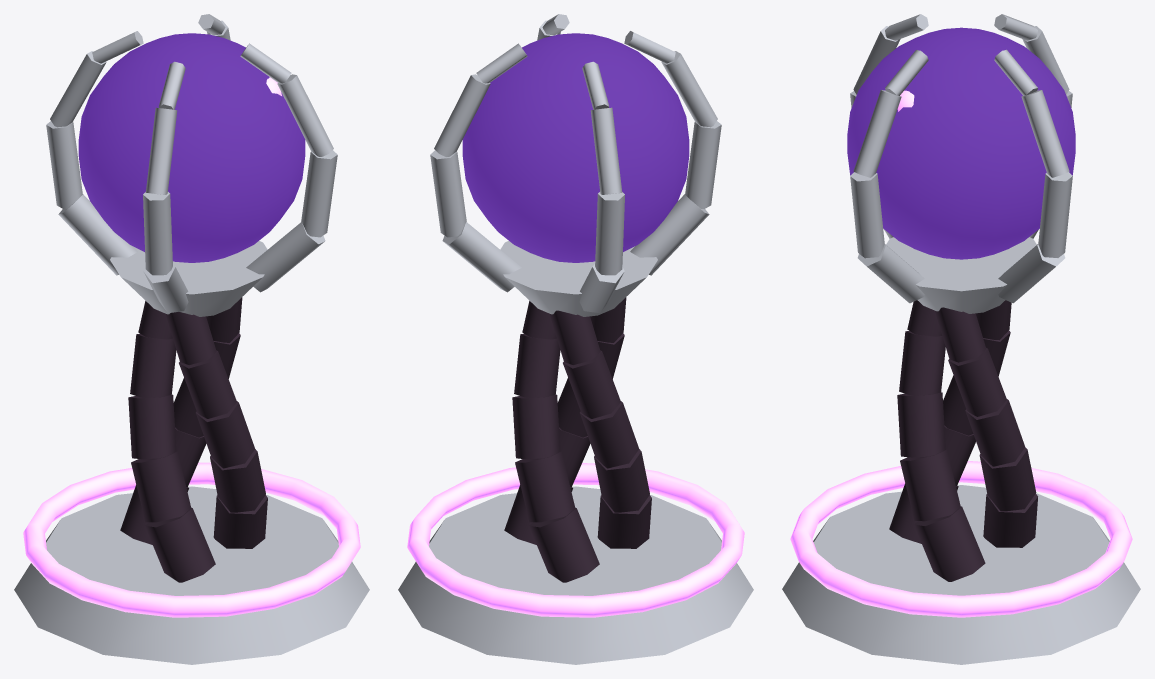
File: mount-pearl.glb
3 views of the same model, side by side, from view 1: azimuth 30°, elevation 25°; view 2: azimuth 150°, elevation 25°; view 3: azimuth 270°, elevation 25° (orthographic).
Visible parts, largest first — view 1: Mesh_Pearl, Mesh_Base, Mesh_RuneRing, Mesh_Cup, Mesh_Coral1_1, Mesh_Coral1_2, Mesh_Coral1_3, Mesh_Coral1_4, Mesh_Coral0_4, Mesh_Coral0_3, Mesh_Talon2_0, Mesh_Coral0_2 (+19 smaller); view 2: Mesh_Pearl, Mesh_Base, Mesh_RuneRing, Mesh_Cup, Mesh_Coral2_1, Mesh_Coral2_2, Mesh_Coral2_3, Mesh_Coral2_4, Mesh_Coral1_4, Mesh_Coral1_3, Mesh_Talon1_0, Mesh_Coral1_2 (+19 smaller); view 3: Mesh_Pearl, Mesh_Base, Mesh_RuneRing, Mesh_Cup, Mesh_Coral0_1, Mesh_Coral0_2, Mesh_Coral0_3, Mesh_Coral0_4, Mesh_Coral2_4, Mesh_Coral2_3, Mesh_Coral2_2, Mesh_Talon0_1 (+19 smaller).
Boxes of the visible parts, x1,y1,x2,y2 form: Mesh_Pearl: (78, 33, 305, 262); Mesh_Base: (14, 486, 369, 664); Mesh_RuneRing: (23, 462, 360, 617); Mesh_Cup: (110, 241, 267, 316); Mesh_Coral1_1: (145, 507, 215, 582); Mesh_Coral1_2: (131, 451, 191, 522); Mesh_Coral1_3: (128, 394, 176, 459); Mesh_Coral1_4: (130, 333, 176, 397); Mesh_Coral0_4: (179, 350, 236, 418); Mesh_Coral0_3: (196, 401, 254, 468); Mesh_Talon2_0: (58, 194, 137, 275); Mesh_Coral0_2: (210, 449, 265, 512); Mesh_Pearl: (462, 33, 689, 262); Mesh_Base: (398, 486, 753, 664); Mesh_RuneRing: (407, 463, 744, 617); Mesh_Cup: (500, 241, 657, 316); Mesh_Coral2_1: (529, 507, 599, 582); Mesh_Coral2_2: (515, 451, 575, 522); Mesh_Coral2_3: (512, 394, 560, 459); Mesh_Coral2_4: (514, 333, 560, 397); Mesh_Coral1_4: (563, 350, 620, 418); Mesh_Coral1_3: (580, 401, 638, 468); Mesh_Talon1_0: (630, 194, 709, 275); Mesh_Coral1_2: (594, 449, 649, 512); Mesh_Pearl: (847, 27, 1075, 259); Mesh_Base: (782, 485, 1140, 664); Mesh_RuneRing: (790, 461, 1132, 617); Mesh_Cup: (886, 237, 1036, 313); Mesh_Coral0_1: (914, 506, 985, 581); Mesh_Coral0_2: (900, 449, 960, 521); Mesh_Coral0_3: (897, 392, 945, 457); Mesh_Coral0_4: (899, 331, 945, 395); Mesh_Coral2_4: (948, 348, 1006, 416); Mesh_Coral2_3: (965, 399, 1024, 466); Mesh_Coral2_2: (979, 447, 1036, 511); Mesh_Talon0_1: (850, 172, 884, 258).
Bounding box in the file's own units: 1.3 × 2.22 × 1.3.
